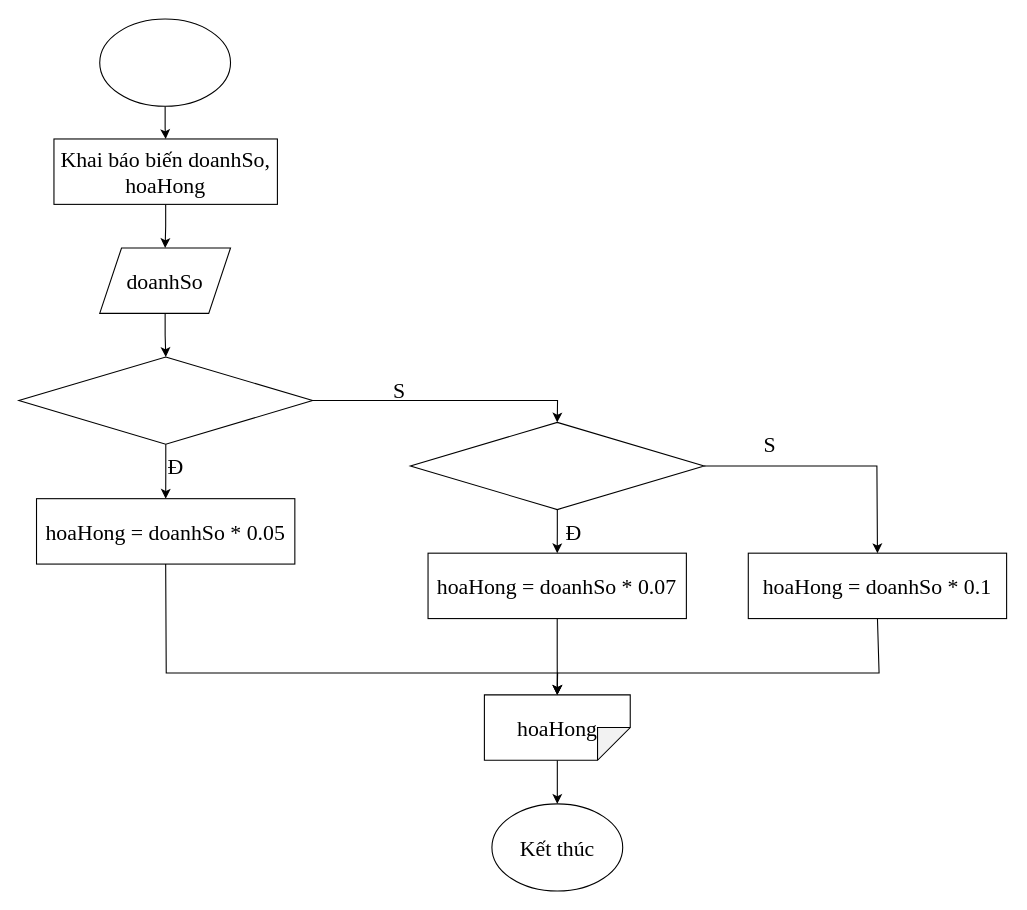
This 1027x910 diagram has some shape labels left out. The box of each missing label's shape, as (x1, y1, x2, y2) in pixels:
Bắt đầu: (99, 18, 231, 106)
doanhSo <= 100000000: (18, 356, 313, 444)
doanhSo <= 300000000: (409, 421, 704, 510)
